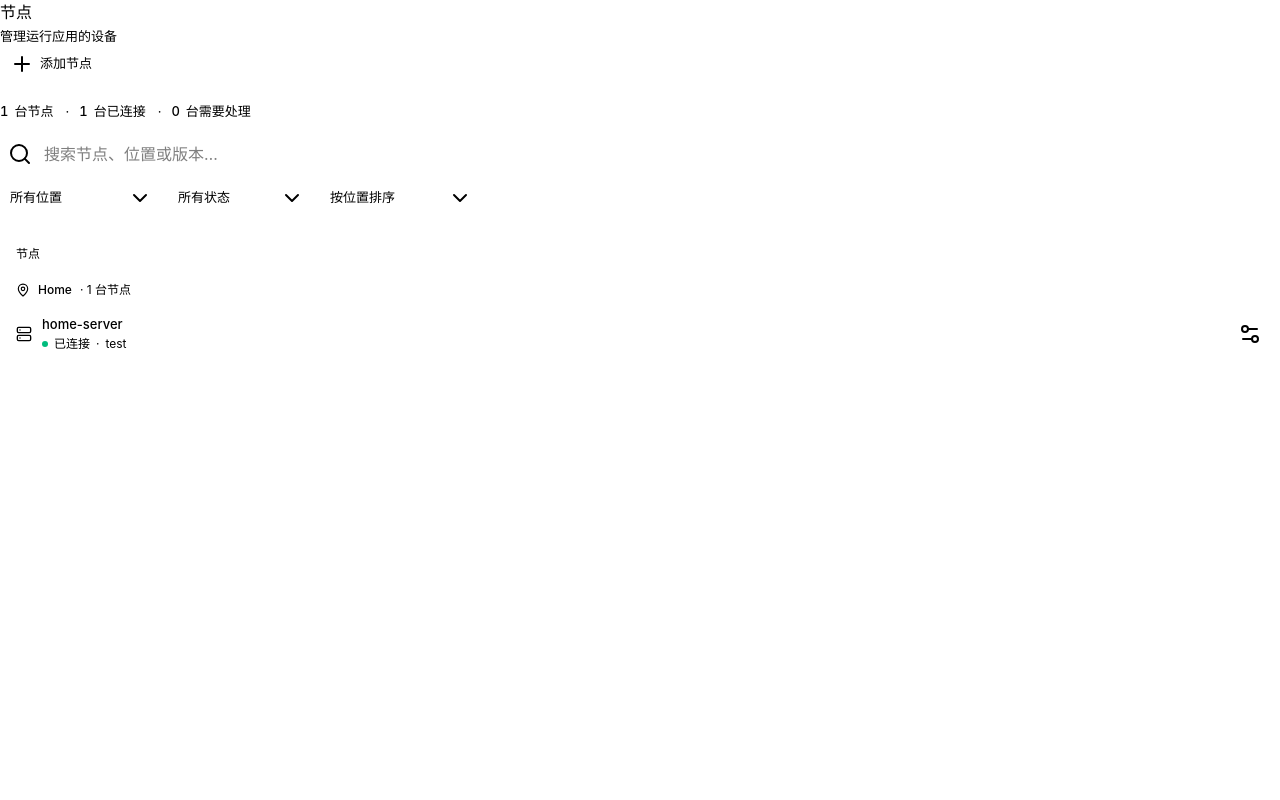
Scenario: landing-only node enrollment › labels an enrolled landing-only node and hides incompatible egress controls
Click the button named "管理 home-server": (1250, 334) x1=1236 y1=320 x2=1264 y2=348
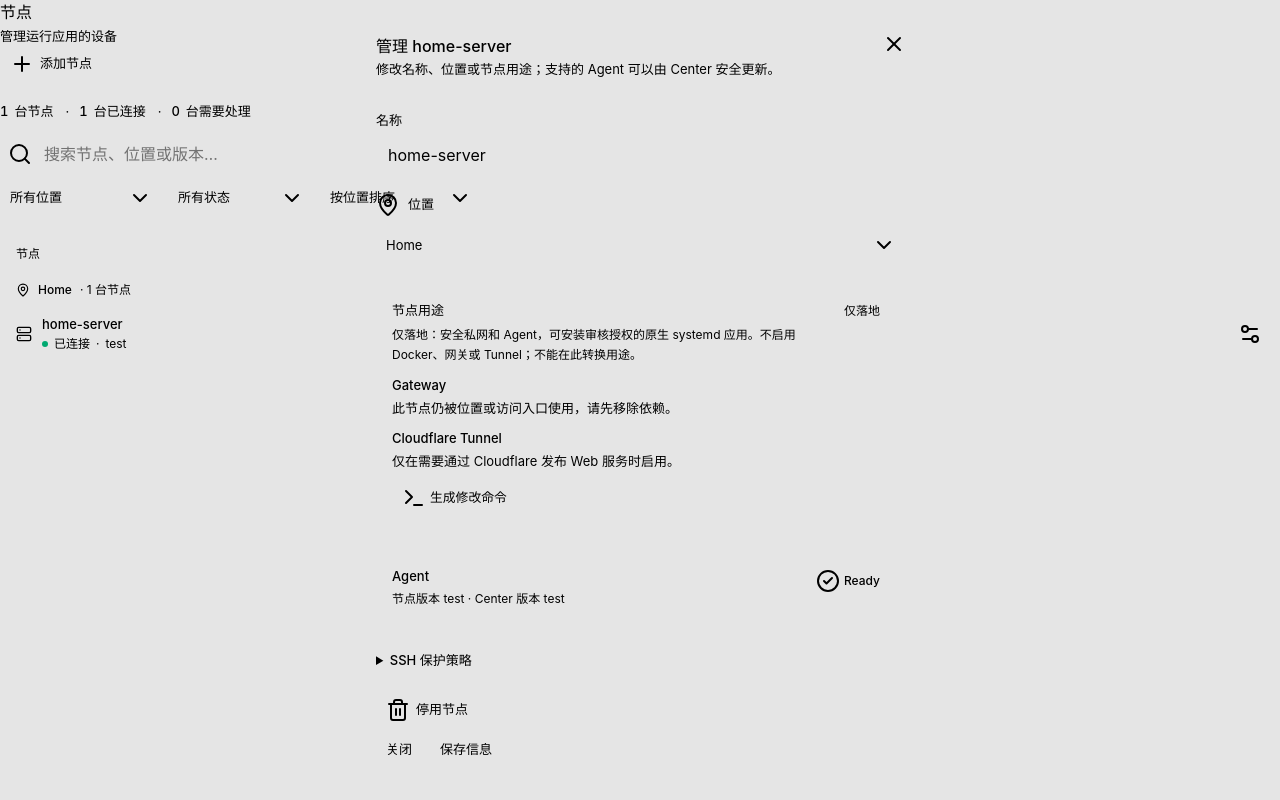
Expected: the checkbox with id "manage-node-gateway" is disabled, x1=392 y1=377 x2=446 y2=395
Expected: the checkbox with id "manage-node-tunnel" is disabled, x1=392 y1=430 x2=502 y2=448
